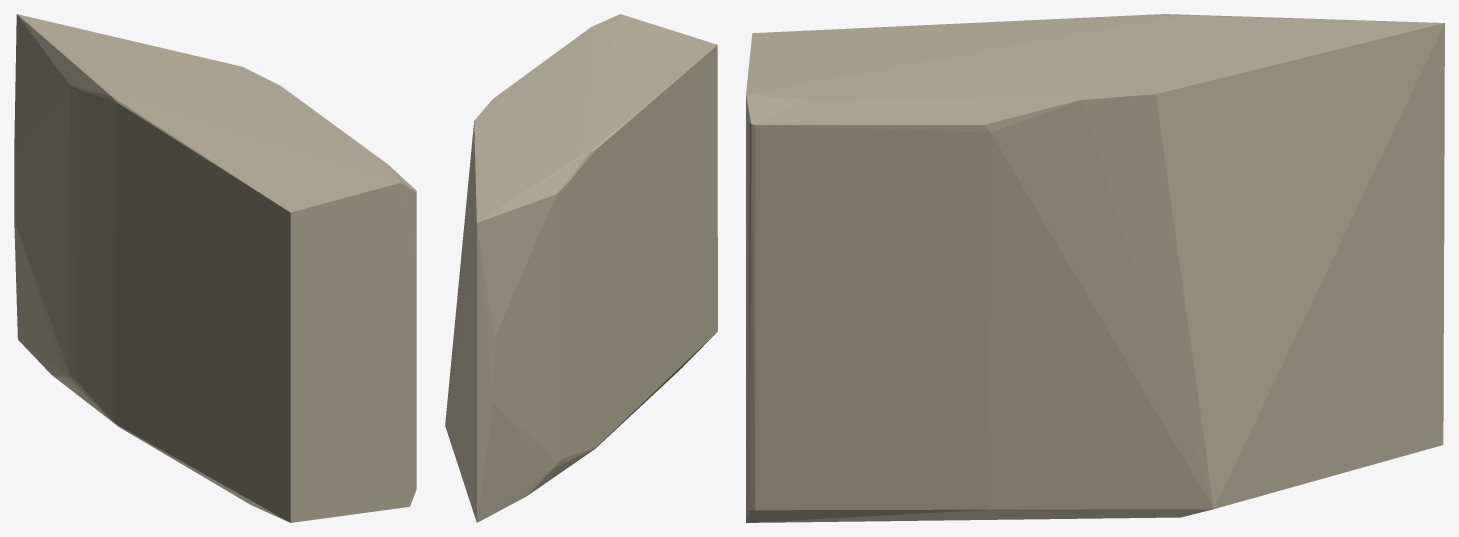
The model's file is fixture_cabinet_a01.glb.
The picture shows the model from 3 angles, left to right: view 1: azimuth 30°, elevation 25°; view 2: azimuth 150°, elevation 25°; view 3: azimuth 270°, elevation 25°; orthographic projection. The views are drawn at different scales.
Parts seen in each view (by area): view 1: geometry_0; view 2: geometry_0; view 3: geometry_0.
Part boxes in pixels (x1,y1,x2,y2): geometry_0: (14, 14, 416, 522); geometry_0: (445, 14, 717, 522); geometry_0: (746, 14, 1444, 522).
Size of the model in its own units: 0.1538 by 0.321 by 0.4795.
